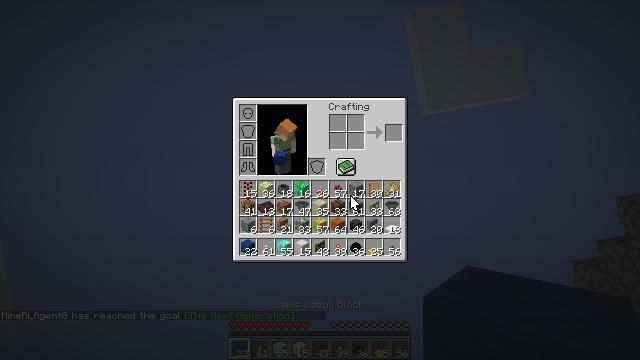cursor: (350, 195, 360, 211)
